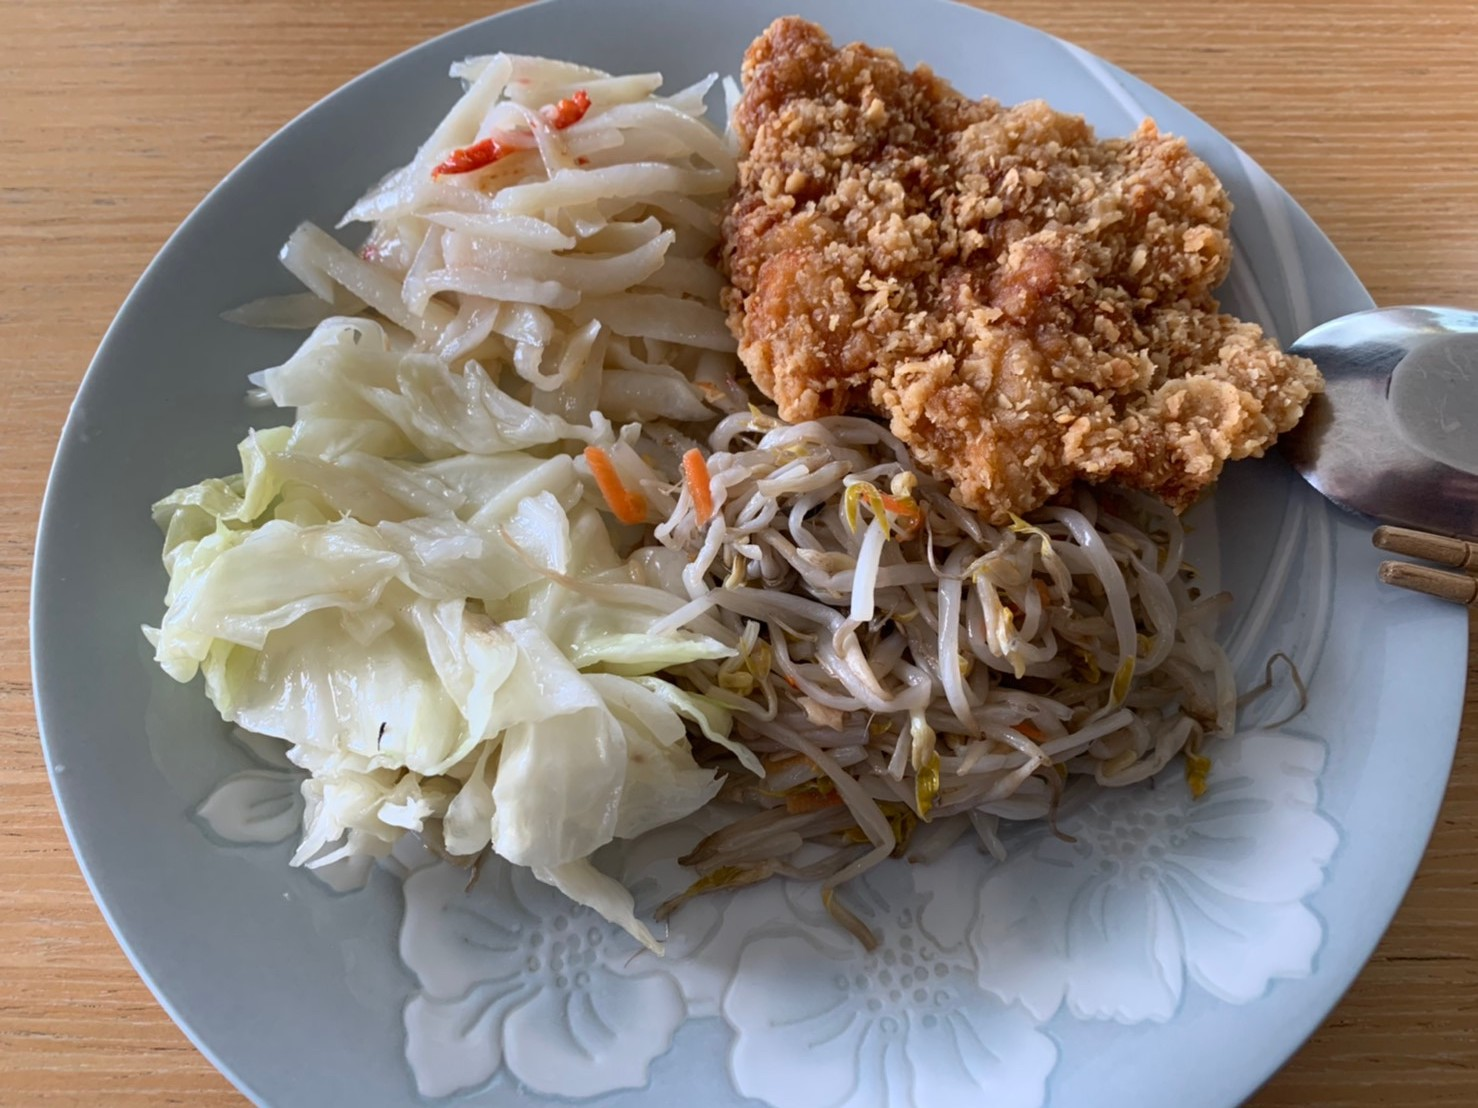chinese_cabbage: (152, 402, 727, 878)
fried_chicken: (726, 28, 1314, 502)
mung_bean_sprouts: (712, 495, 1239, 862)
